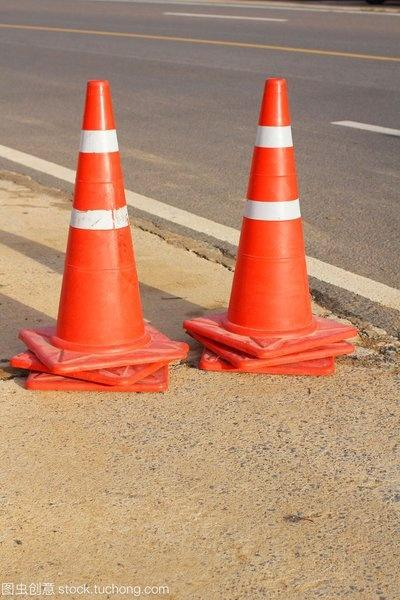cone_barrel: (40, 80, 163, 369), (211, 80, 332, 357)
